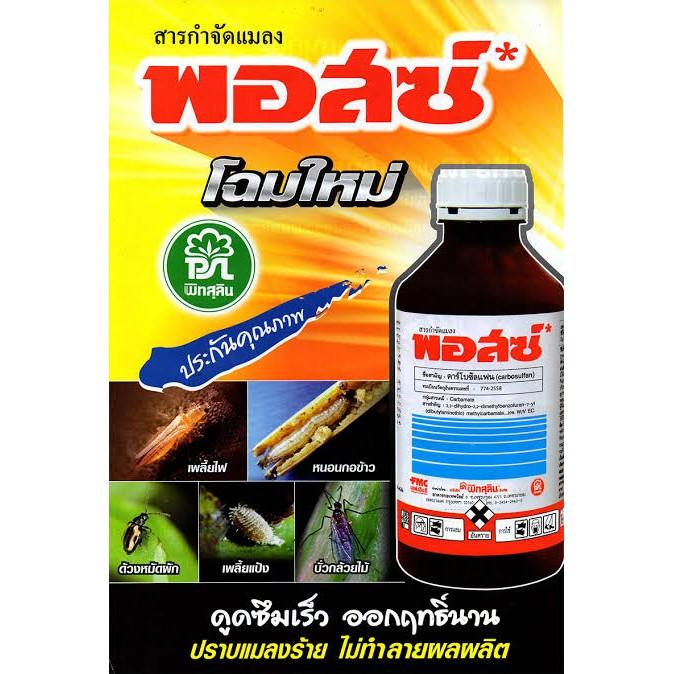Insecticide: (383, 163, 564, 594)
